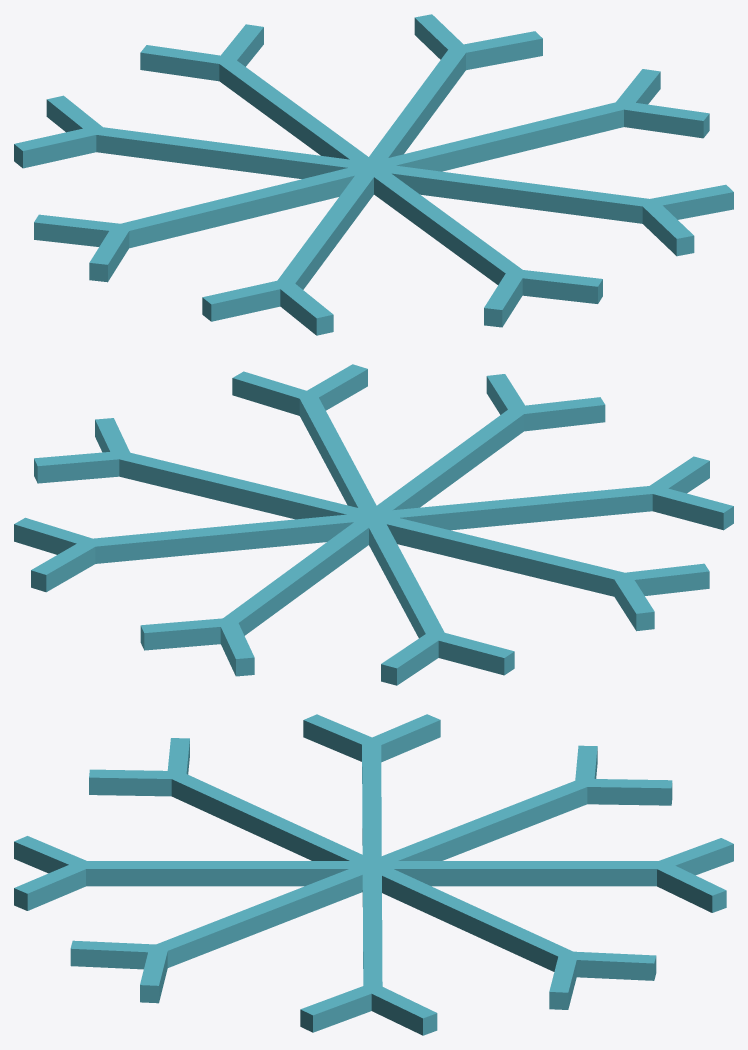
The model's file is ŚNIEG.fbx.
3 views of the same model, one above another, from view 1: azimuth 30°, elevation 25°; view 2: azimuth 150°, elevation 25°; view 3: azimuth 270°, elevation 25° (orthographic).
Parts seen in each view (by area): view 1: ŚNIEG; view 2: ŚNIEG; view 3: ŚNIEG.
Boxes of the visible parts, <box> form: ŚNIEG: <box>14,14,733,335</box>; ŚNIEG: <box>14,364,733,685</box>; ŚNIEG: <box>14,714,733,1035</box>.
Size of the model in its own units: 2.73 by 0.0727 by 2.73.
